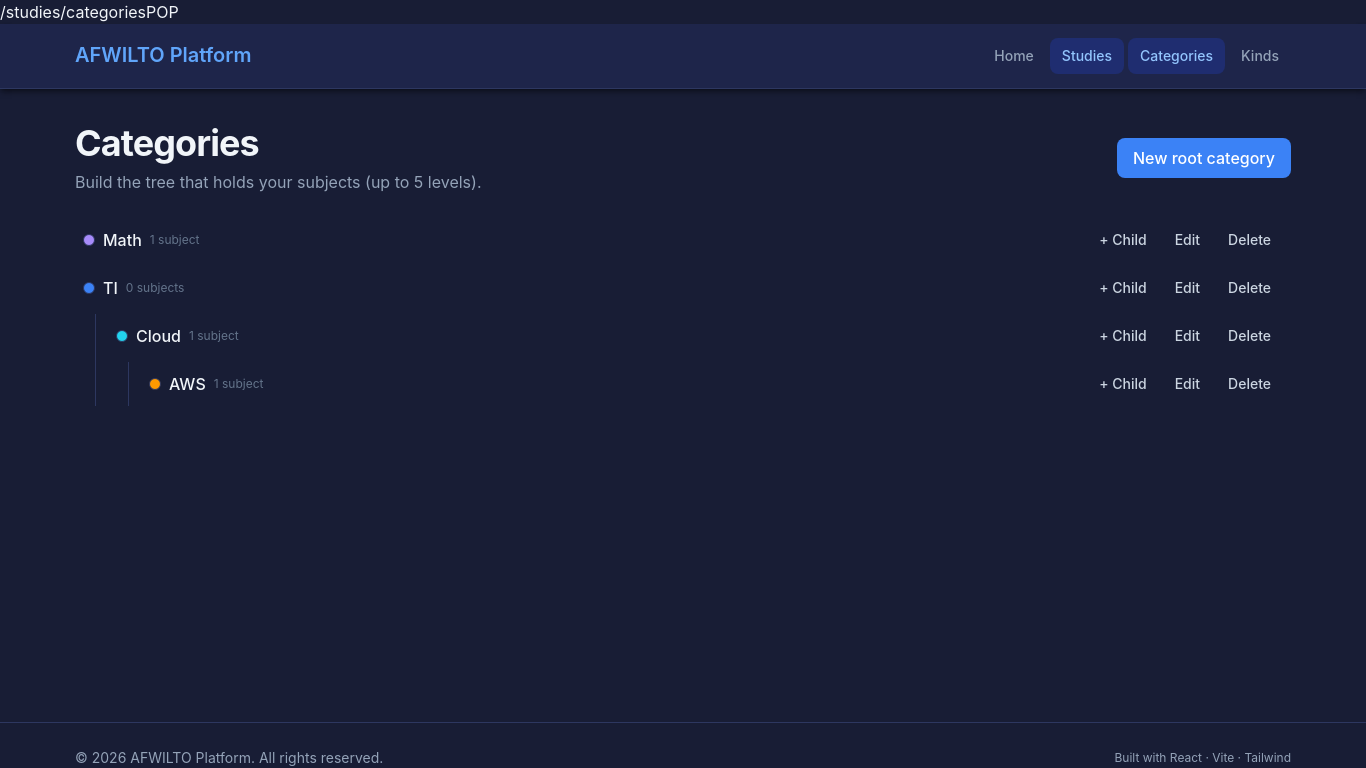
Test: CategoriesPage — color picker (S09a-5, amended) › editing starts the picker at the stored color
The width and height of the screenshot is (1366, 768).
Expected: the heading "Categories" is shown, x1=75 y1=121 x2=259 y2=165
Expected: the text "AWS" is shown, x1=169 y1=372 x2=206 y2=396
Click the button with aria-label "Edit AWS": point(1187, 384) x1=1163 y1=368 x2=1212 y2=400
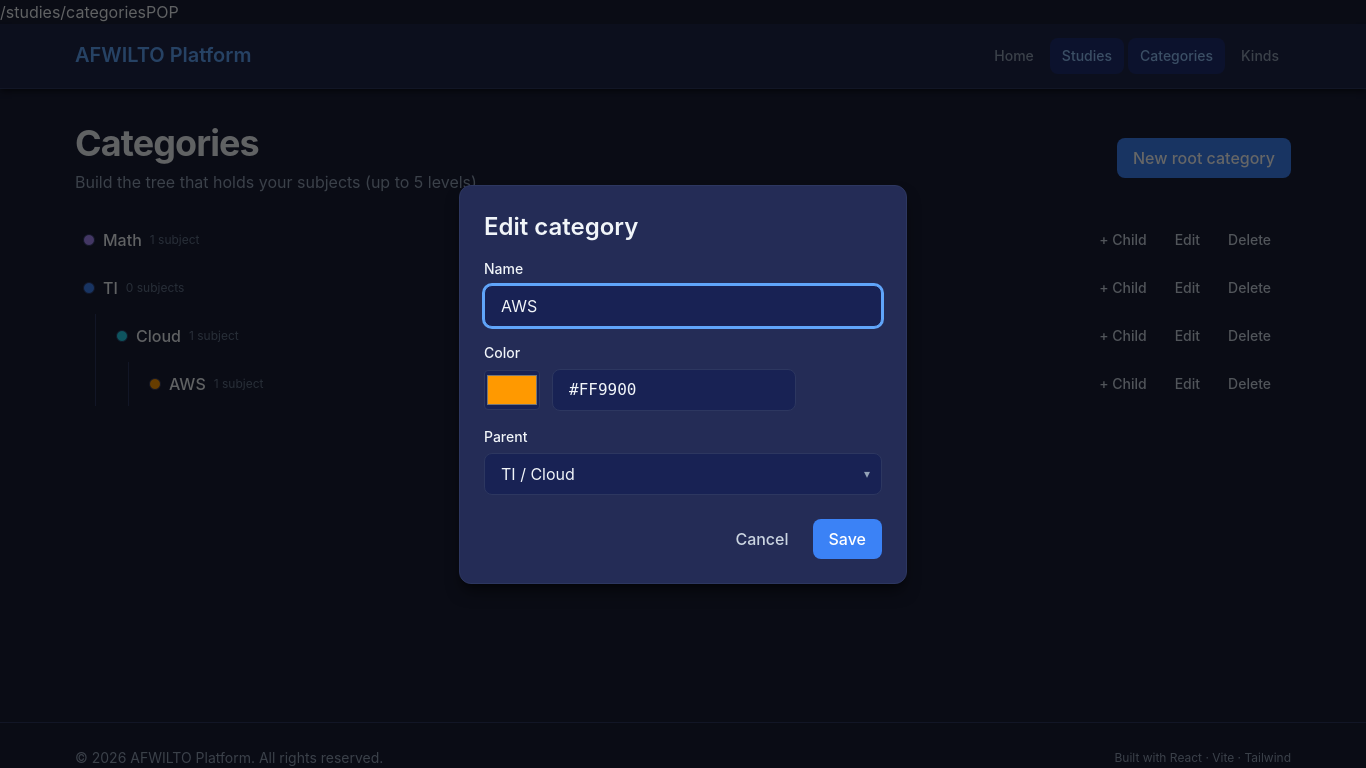
Expected: the colour field named "Pick color" holds "#ff9900", x1=484 y1=370 x2=540 y2=410
